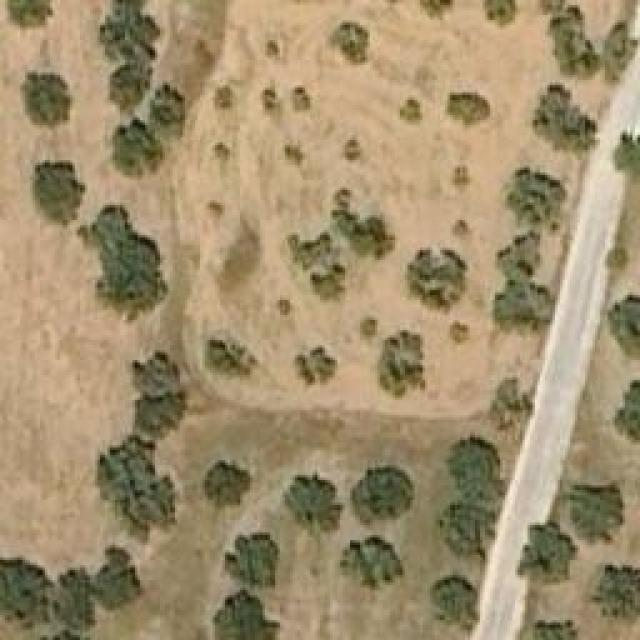Tree: (75, 205, 168, 323), (98, 438, 178, 528), (533, 82, 598, 150), (333, 190, 396, 260), (503, 168, 568, 231), (30, 155, 85, 228), (0, 550, 50, 630), (443, 435, 506, 498), (405, 248, 465, 313), (350, 465, 413, 525), (518, 520, 578, 583), (100, 0, 160, 62), (548, 5, 601, 75), (493, 282, 556, 340), (435, 495, 495, 555), (340, 535, 405, 590), (378, 330, 428, 400), (285, 475, 343, 533), (570, 483, 625, 543), (212, 592, 280, 640), (93, 548, 143, 608), (225, 535, 280, 588), (112, 118, 160, 178), (430, 575, 478, 635), (50, 568, 98, 628), (128, 390, 188, 438), (20, 73, 70, 128), (590, 565, 640, 618), (203, 460, 253, 508), (605, 15, 640, 78), (105, 60, 150, 108), (607, 294, 640, 357), (293, 345, 338, 388), (612, 377, 640, 445), (147, 83, 185, 133), (500, 235, 540, 280), (328, 23, 368, 66), (133, 352, 178, 390), (2, 0, 55, 32), (288, 232, 331, 270), (208, 340, 251, 375), (445, 93, 490, 126), (310, 265, 345, 303), (528, 618, 581, 638), (602, 248, 630, 281), (617, 135, 640, 175), (207, 83, 235, 113), (485, 0, 515, 25), (340, 135, 365, 163), (448, 165, 473, 193), (208, 137, 233, 165), (285, 133, 305, 166), (200, 198, 225, 221), (400, 100, 423, 123), (420, 0, 455, 15), (273, 293, 293, 318), (450, 323, 470, 343), (295, 88, 310, 111)
